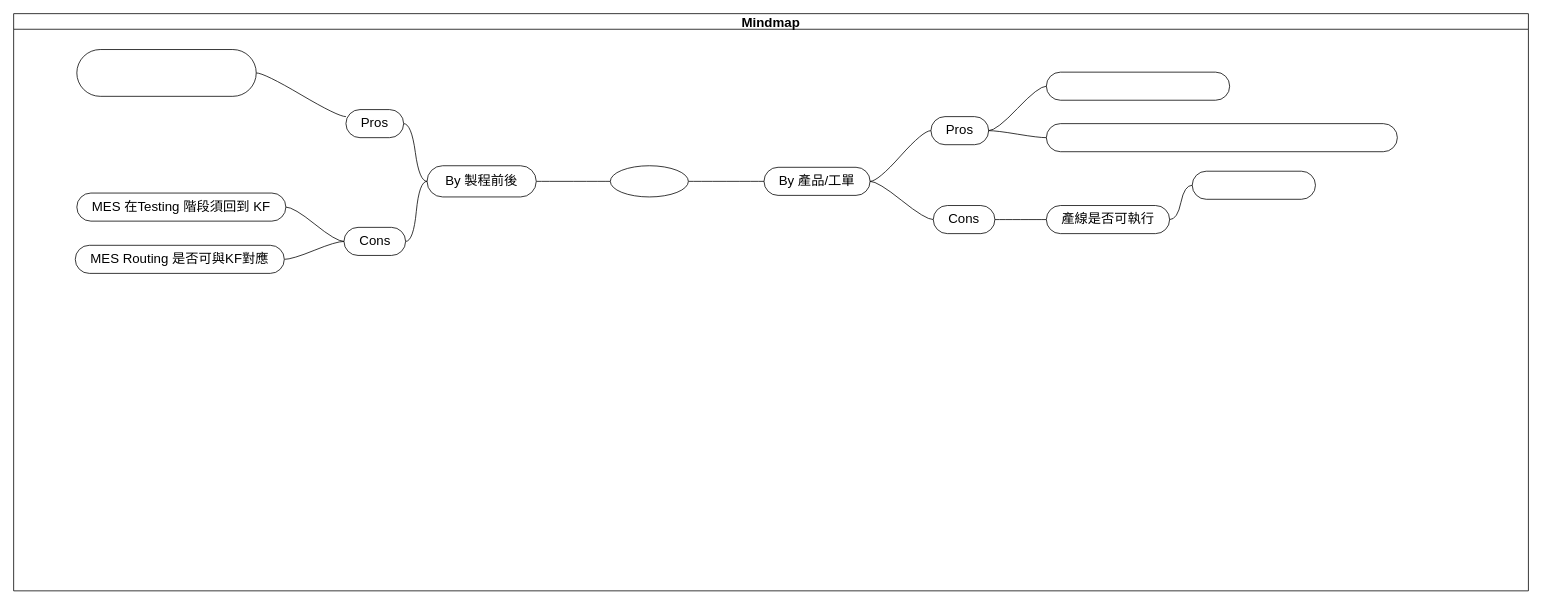
This 1542x605 diagram has some shape labels left out. The box of each missing label's shape, as (x1, y1, x2, y2) in pixels:
MES分階段: (610, 165, 688, 197)
MES負責SMT, Depanel, KF負責Intel Testing: (76, 49, 256, 96)
不須與KF進行資料交換，只需和JDE、報表做資料交換: (1046, 123, 1397, 152)
可否由工單來分: (1191, 170, 1315, 199)
可與KF同時並行,互不影響: (1046, 71, 1230, 100)
